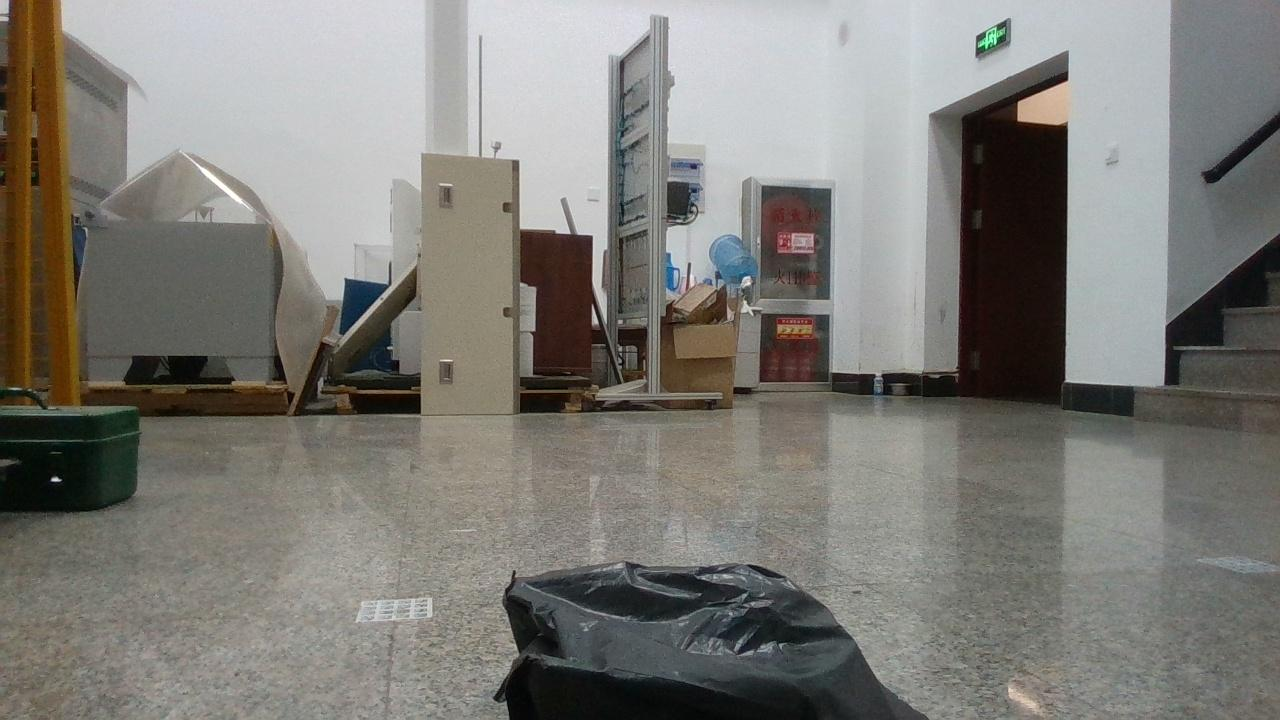package: (492, 562, 930, 720)
